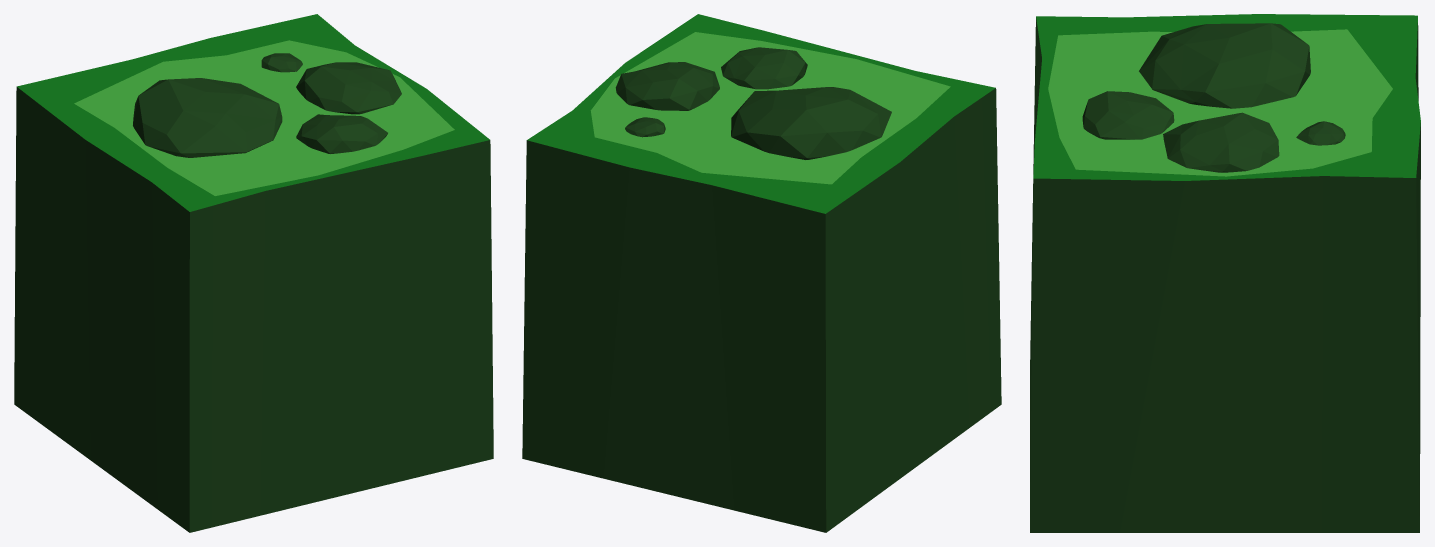
Rendered from TileRock_03.fbx.
3 views of the same model, side by side, from view 1: azimuth 30°, elevation 25°; view 2: azimuth 150°, elevation 25°; view 3: azimuth 270°, elevation 25° (orthographic). The views are drawn at different scales.
Parts seen in each view (by area): view 1: RockTile_03; view 2: RockTile_03; view 3: RockTile_03.
Boxes of the visible parts, left/top/right/bottom form: RockTile_03: left=14, top=14, right=493, bottom=532; RockTile_03: left=522, top=14, right=1001, bottom=532; RockTile_03: left=1030, top=14, right=1420, bottom=532.
Size of the model in its own units: 101 by 111 by 100.
